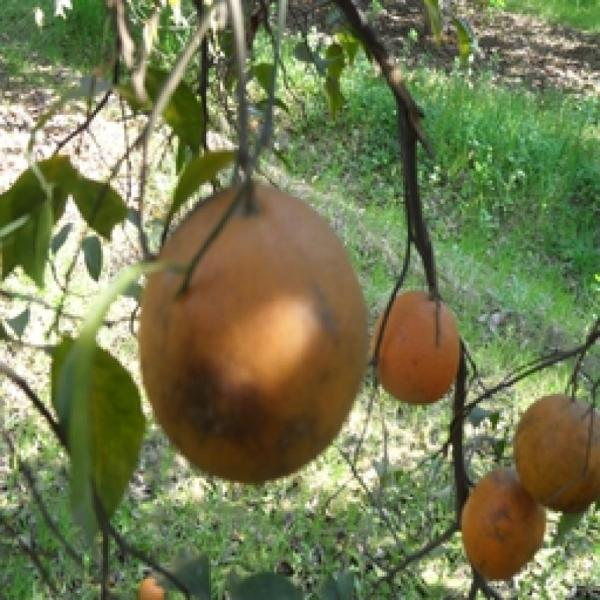Canker: (136, 176, 372, 488), (511, 380, 599, 518), (457, 465, 550, 583)
Sana: (366, 283, 466, 413)
